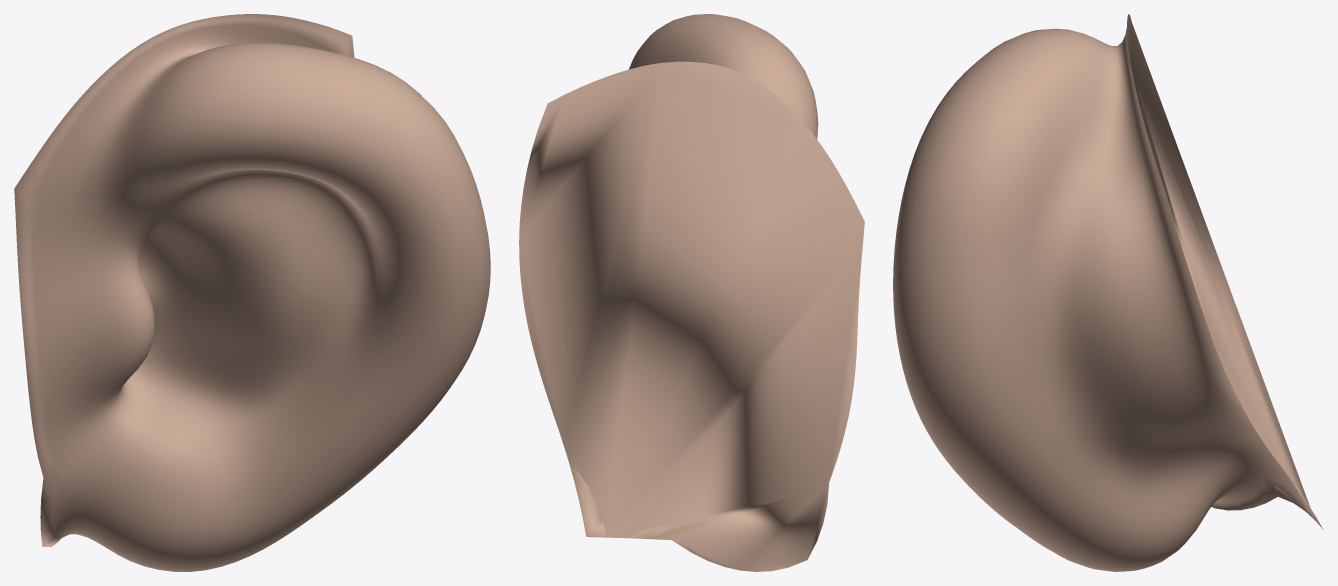
Rendered from ear-03.glb.
3 renders of one model, left to right at view 1: azimuth 30°, elevation 25°; view 2: azimuth 150°, elevation 25°; view 3: azimuth 270°, elevation 25°, orthographic. The views are drawn at different scales.
Parts seen in each view (by area): view 1: ear-03; view 2: ear-03; view 3: ear-03.
Boxes of the visible parts, x1,y1,x2,y2 form: ear-03: (14,14,490,571); ear-03: (519,14,864,571); ear-03: (893,14,1322,571).
Size of the model in its own units: 2.17 by 3 by 2.17.
